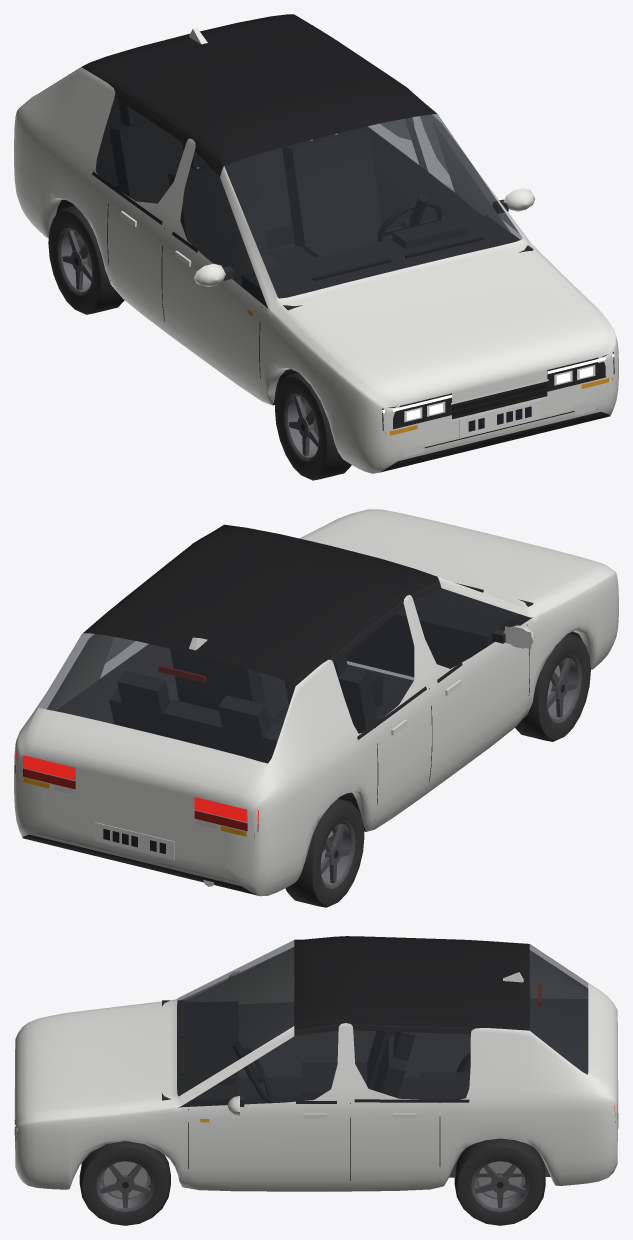
Rendered from hatchback_white.glb.
3 views of the same model, one above another, from view 1: azimuth 30°, elevation 25°; view 2: azimuth 150°, elevation 25°; view 3: azimuth 270°, elevation 25° (orthographic). The views are drawn at different scales.
Visible parts, largest first — view 1: hatchback_white_body, Wheel_RR, Wheel_FR; view 2: hatchback_white_body, Wheel_RR, Wheel_FR; view 3: hatchback_white_body, Wheel_RL, Wheel_FL.
Boxes of the visible parts, left/top/right/bottom form: hatchback_white_body: left=14, top=14, right=618, bottom=473; Wheel_RR: left=48, top=205, right=124, bottom=314; Wheel_FR: left=275, top=372, right=351, bottom=480; hatchback_white_body: left=14, top=509, right=618, bottom=896; Wheel_RR: left=285, top=799, right=364, bottom=907; Wheel_FR: left=515, top=634, right=590, bottom=741; hatchback_white_body: left=14, top=936, right=618, bottom=1191; Wheel_RL: left=454, top=1138, right=545, bottom=1225; Wheel_FL: left=79, top=1141, right=170, bottom=1225.
Bounding box in the file's own units: 0.1105 × 0.0755 × 0.2058.
8 materials, 1 textured.
